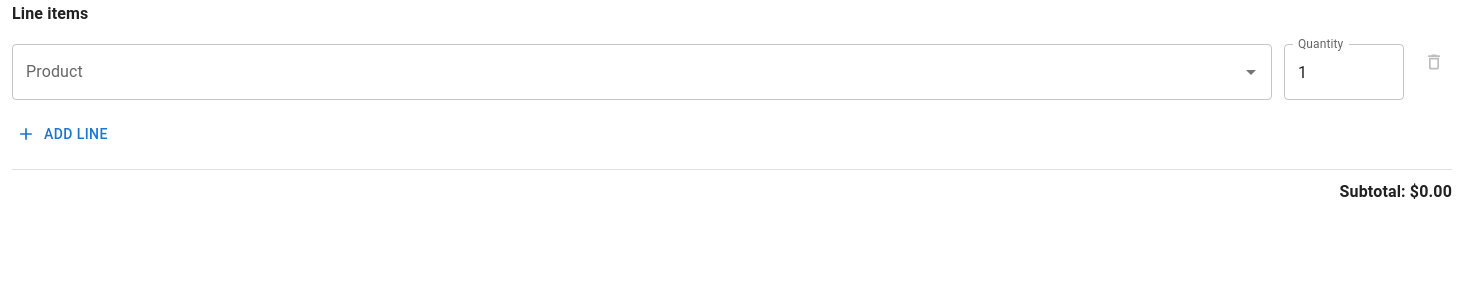
Test: OrderLineItemsEditor › adding a line enables removal, and removing brings it back to one
What coordinates should you click on to do the following:
click the button "Add line"
I would click on:
 (64, 134)
Its box is [12,116,116,152].
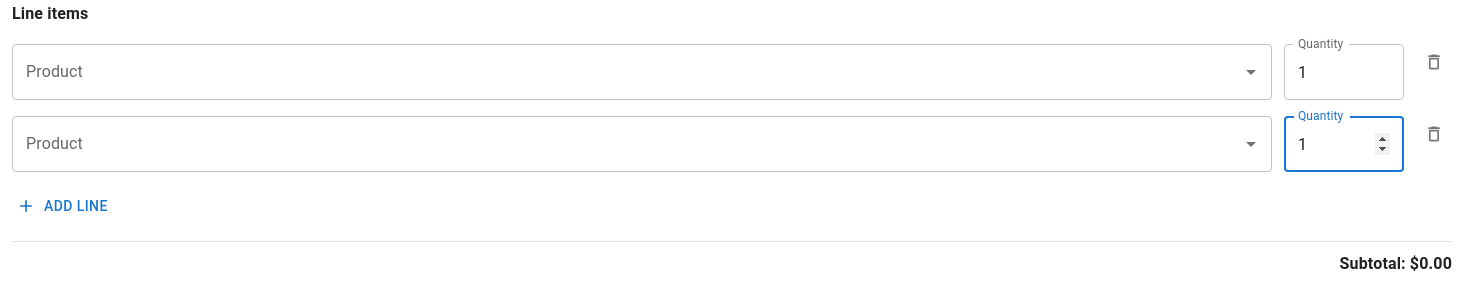
Now the number of buttons named "Remove line" is 2
Now the 1st button named "Remove line" is enabled
What coordinates should you click on to do the following:
click the 1st button named "Remove line"
I would click on:
 (1434, 62)
Its box is [1416,44,1452,80].
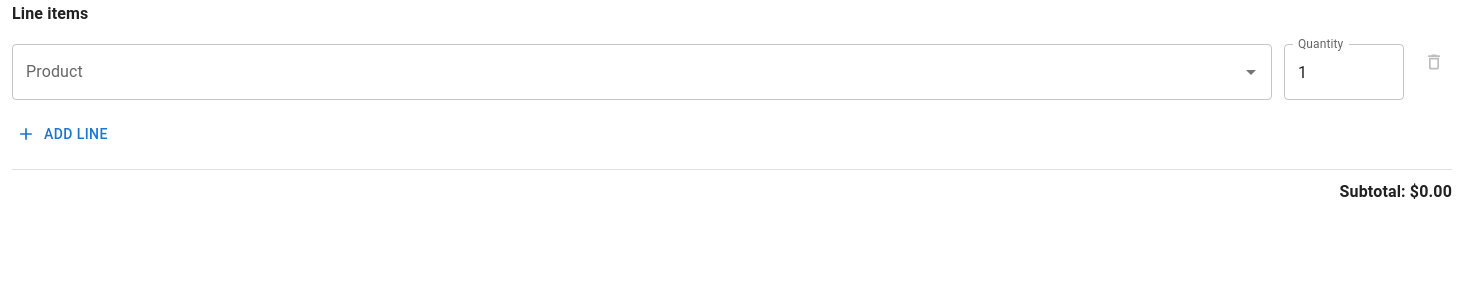
Now the number of buttons named "Remove line" is 1, box [1416,44,1452,80]
Now the button named "Remove line" is disabled, box [1416,44,1452,80]
